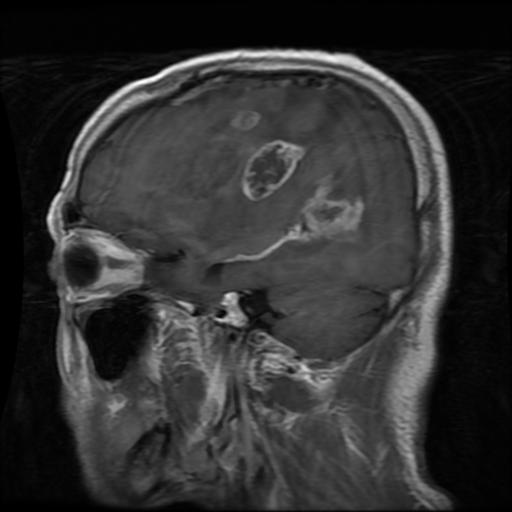Gliomia_tumour: (242, 138, 306, 200)
